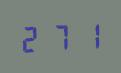one: (75, 19, 102, 50)
seven: (47, 20, 74, 52)
two: (18, 22, 45, 53)
